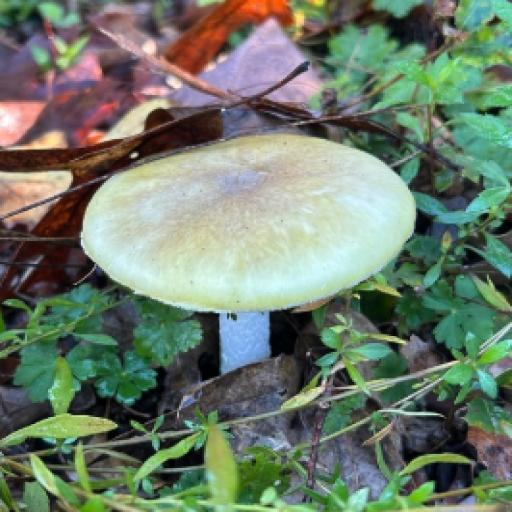Death Cap: (66, 69, 434, 397)
